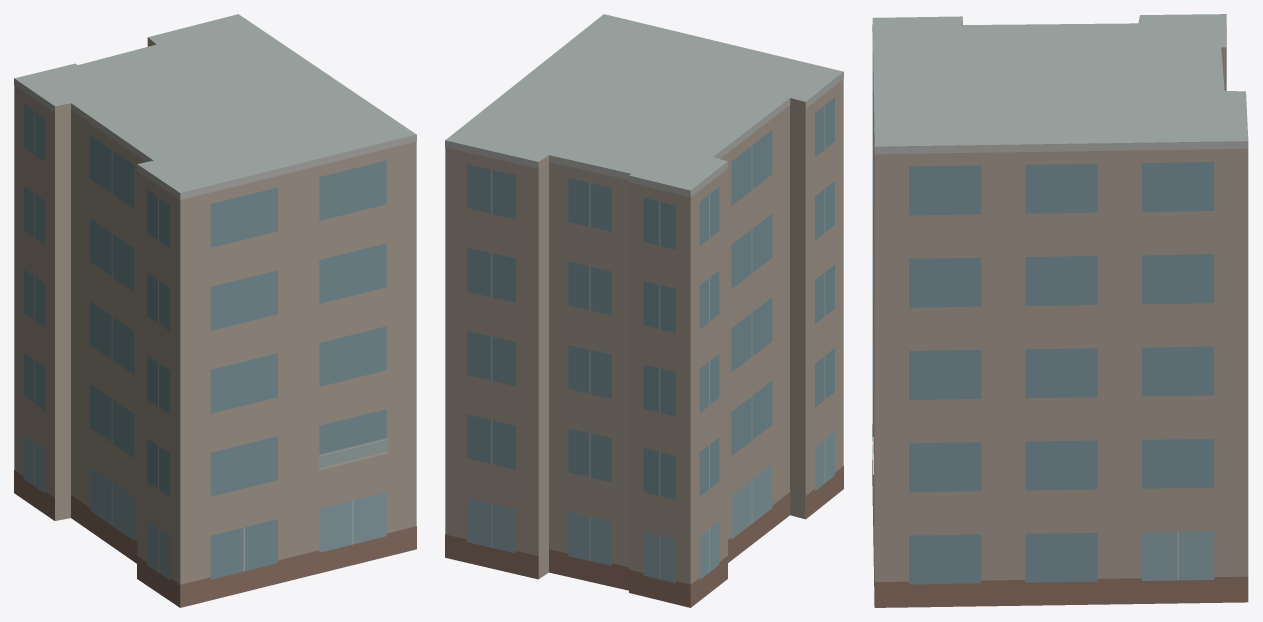
Rendered from survey-upis-32874535.glb.
The picture shows the model from 3 angles, left to right: view 1: azimuth 30°, elevation 25°; view 2: azimuth 150°, elevation 25°; view 3: azimuth 270°, elevation 25°; orthographic projection. The views are drawn at different scales.
Parts seen in each view (by area): view 1: survey-upis-32874535.tmp; view 2: survey-upis-32874535.tmp; view 3: survey-upis-32874535.tmp.
Boxes of the visible parts, <box> form: survey-upis-32874535.tmp: <box>14,14,416,607</box>; survey-upis-32874535.tmp: <box>445,14,843,607</box>; survey-upis-32874535.tmp: <box>872,14,1248,607</box>.
Bounding box in the file's own units: 9.07 × 14.7 × 10.87.
